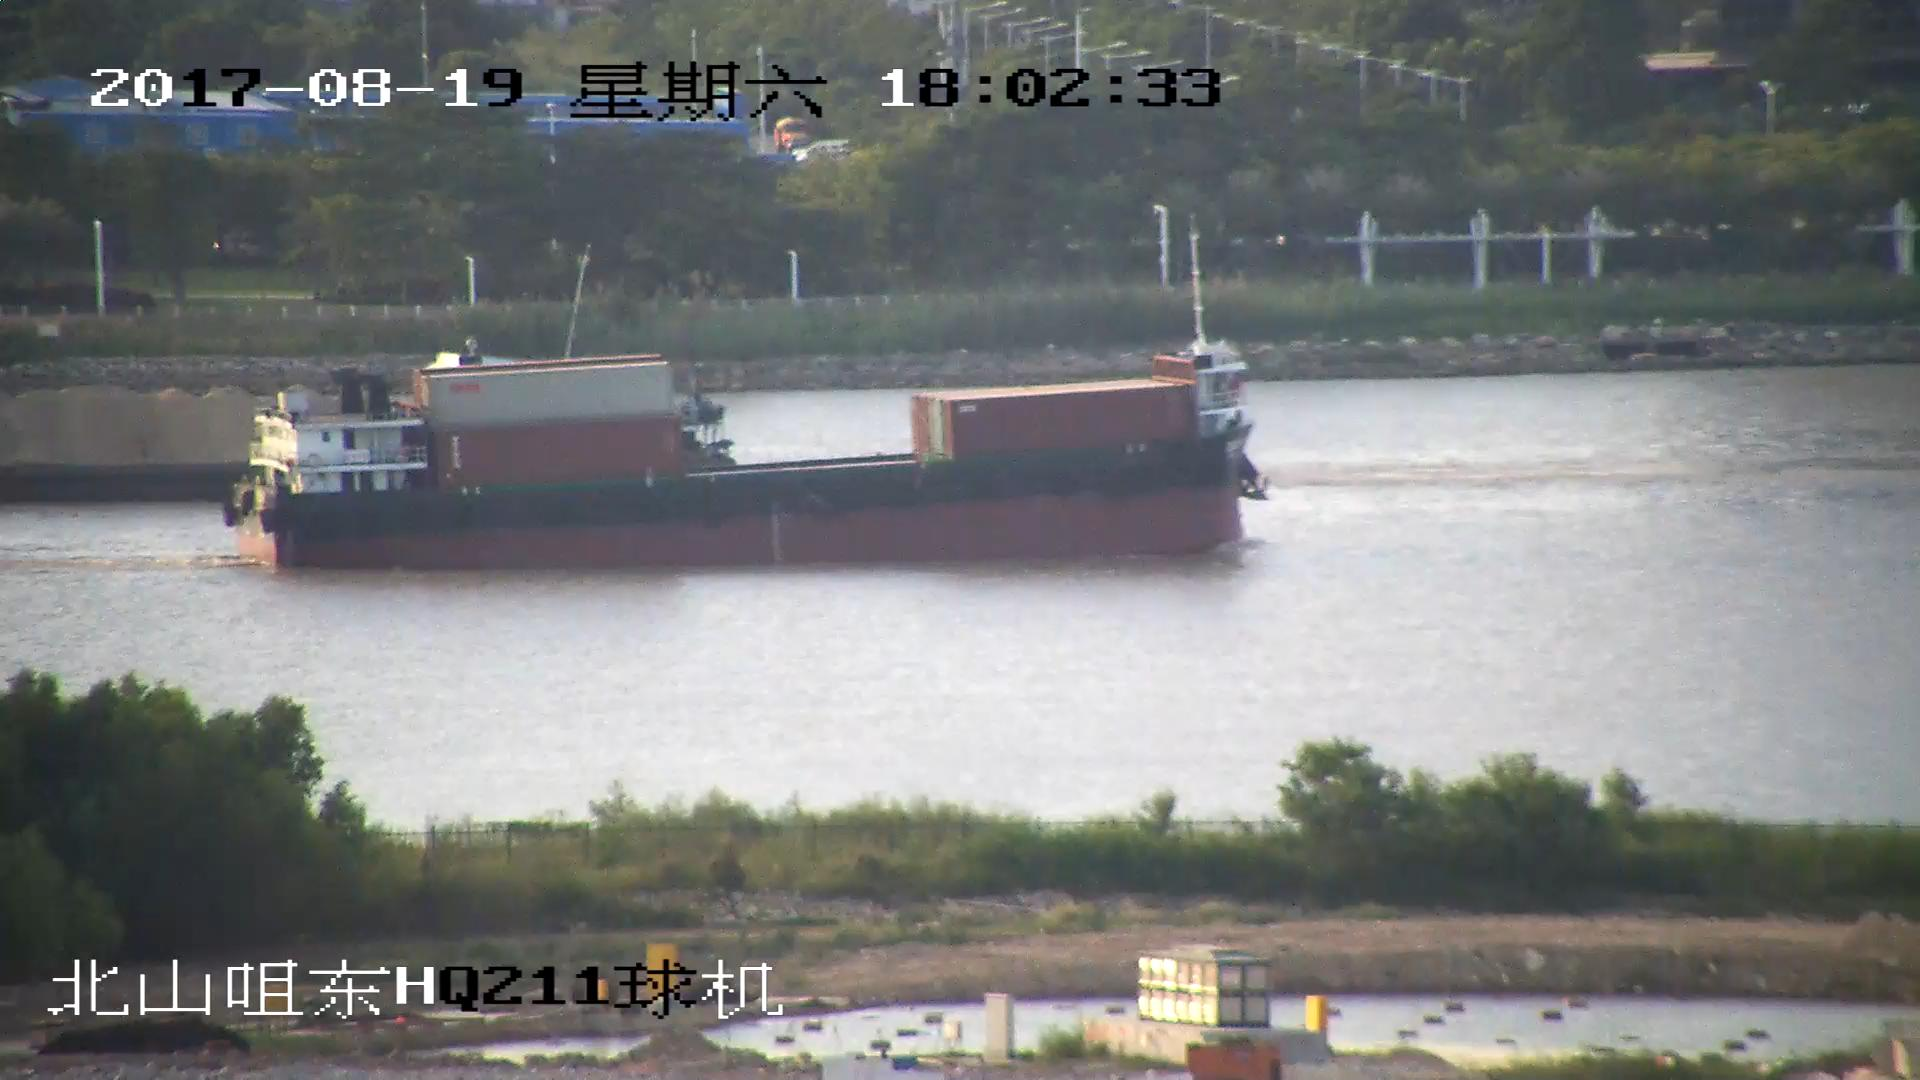container ship: (224, 337, 1260, 569)
